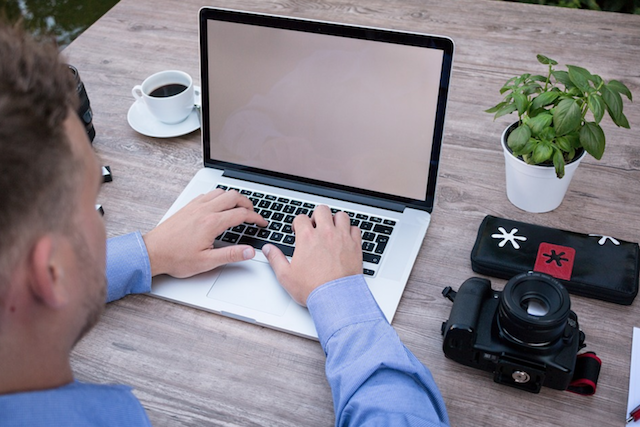computer: (143, 3, 452, 351)
